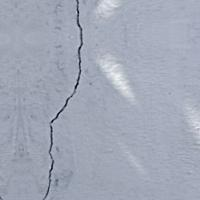crack: (32, 0, 123, 199)
